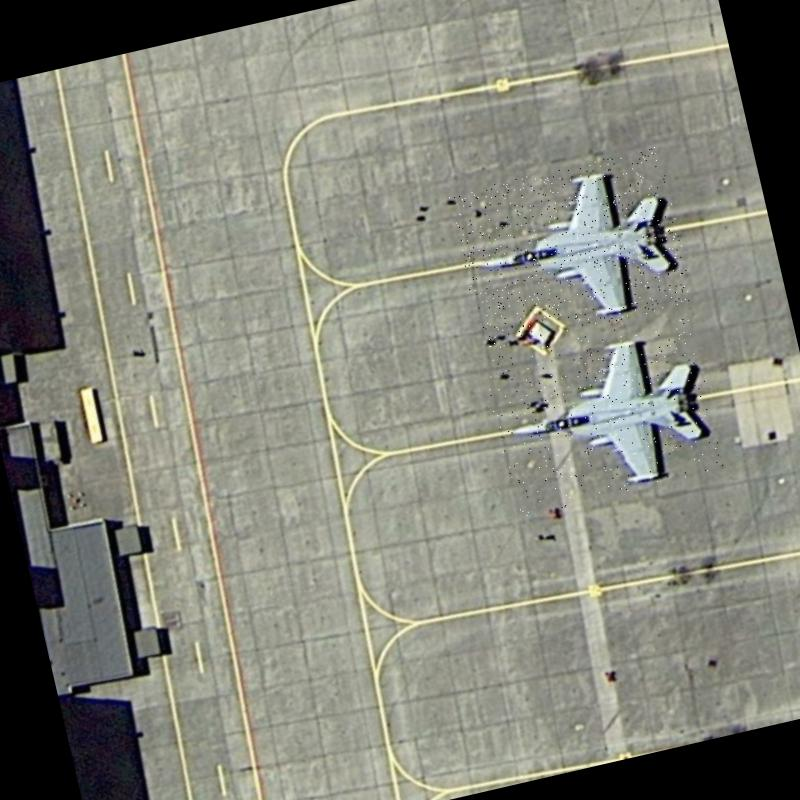A16: (446, 145, 694, 351), (480, 312, 725, 518)
